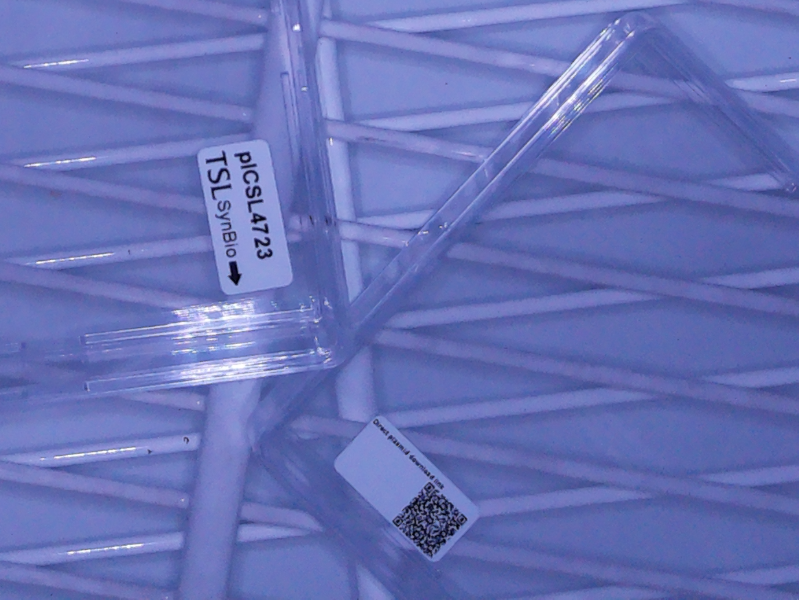plate: (245, 10, 799, 600), (1, 1, 359, 403)
